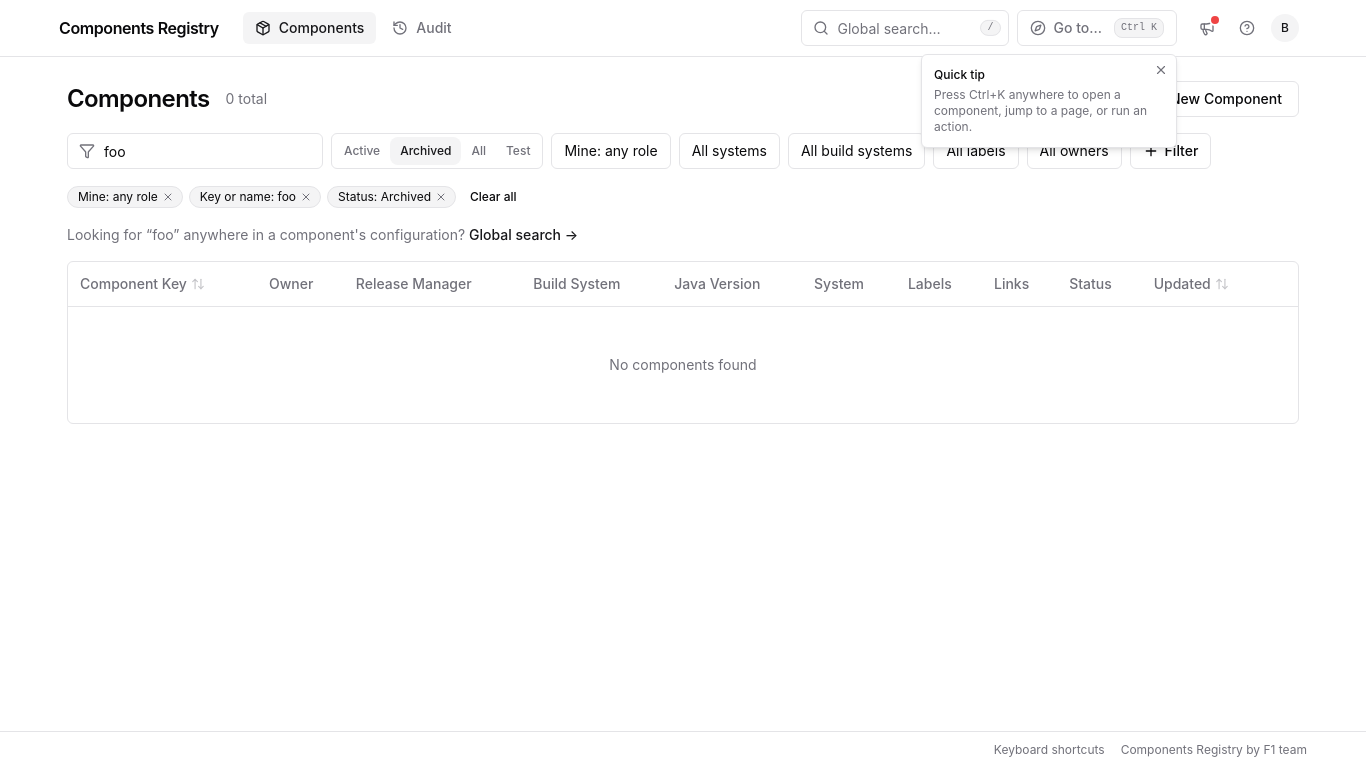
Test case: ComponentListPage — Status / Mine filters + active-filter chips › "Clear all" resets every filter back to the Active default
Expected: the element with test id "active-filter-chips" is shown, [67,185,524,209]
Click the button "Clear all". click: {"x": 493, "y": 197}
box: [462,185,524,209]
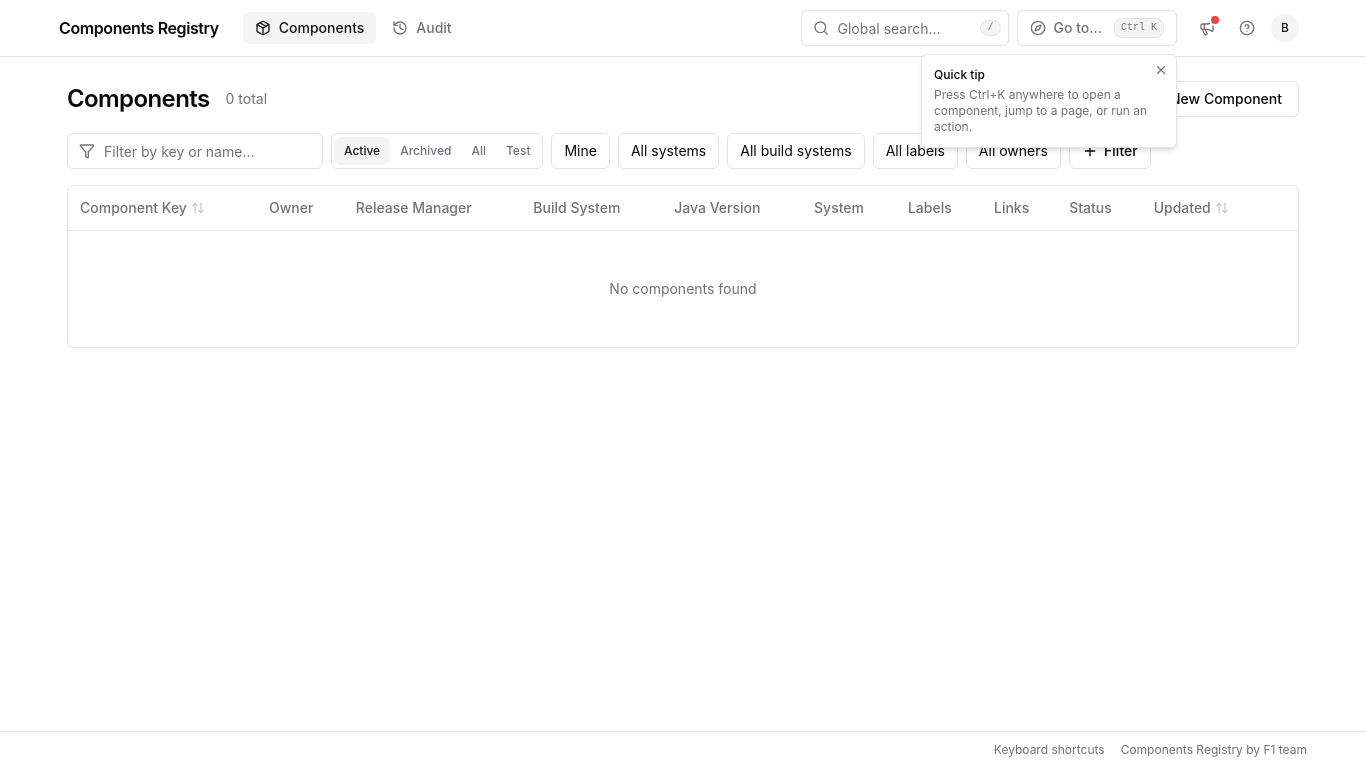
Expected: the element with test id "active-filter-chips" is gone
